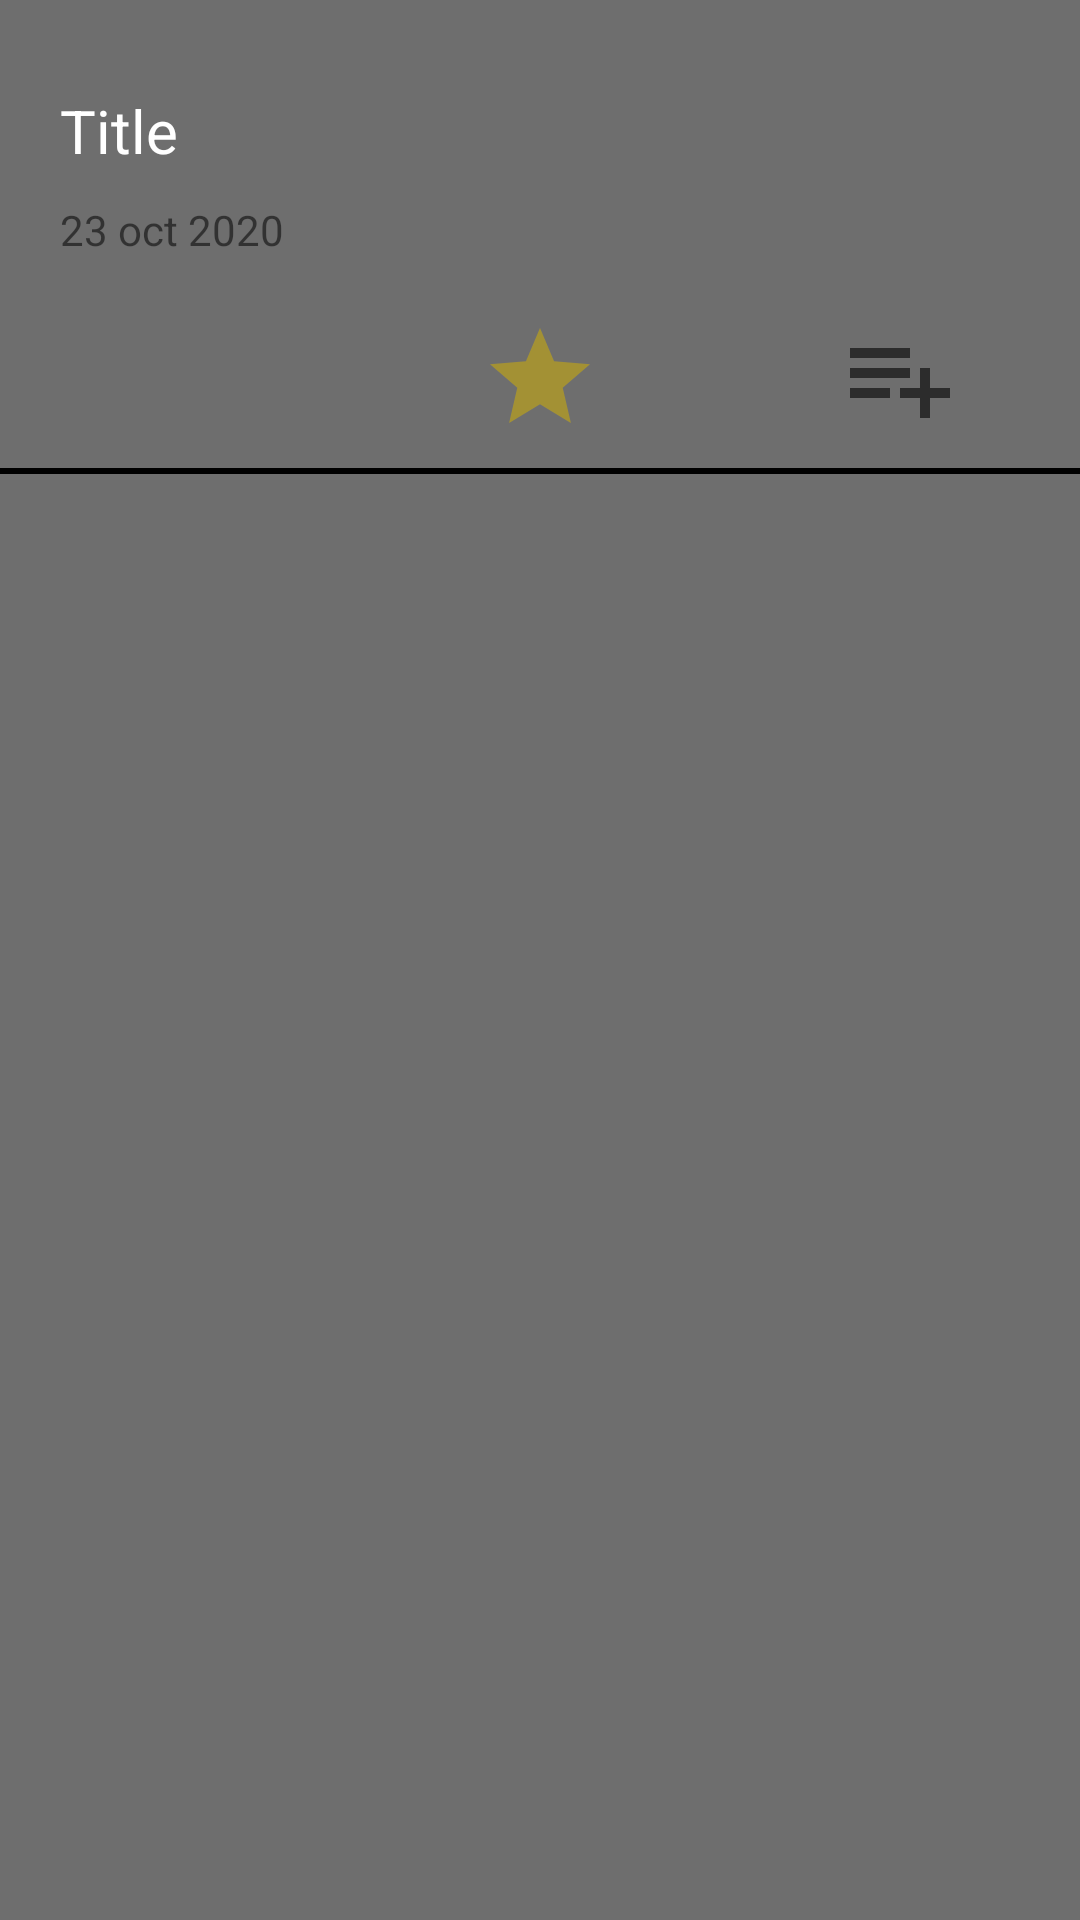

Icon click points for this 1080*1920 phone screenshot, format (x,y):
playlist add: (900,383)
star: (540,376)
